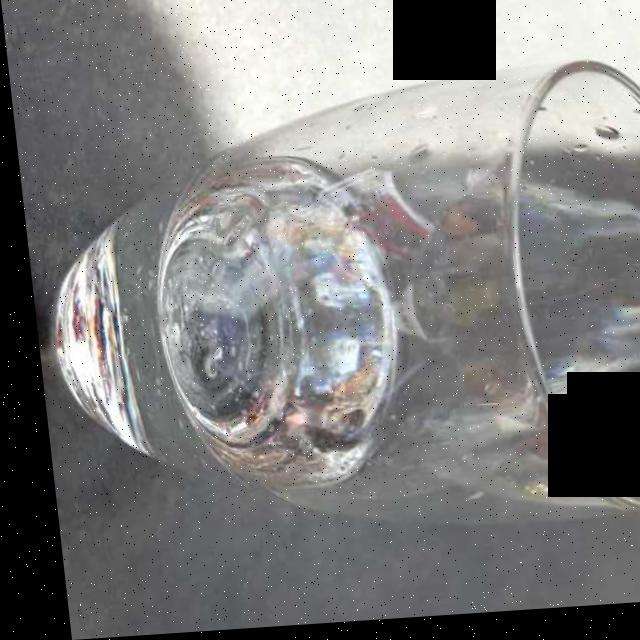water-mineral: (44, 148, 383, 503)
